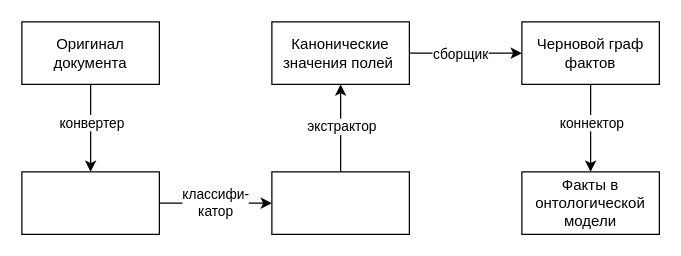
The diagram is 681 pixels wide and 256 high, and some of its shapes have lost their labels. Here are the shapes that lost their labels. From the top down, the centre of each, then its label:
At (x=90, y=202): "Унифицированное представление".
At (x=340, y=202): "Класс документа".
